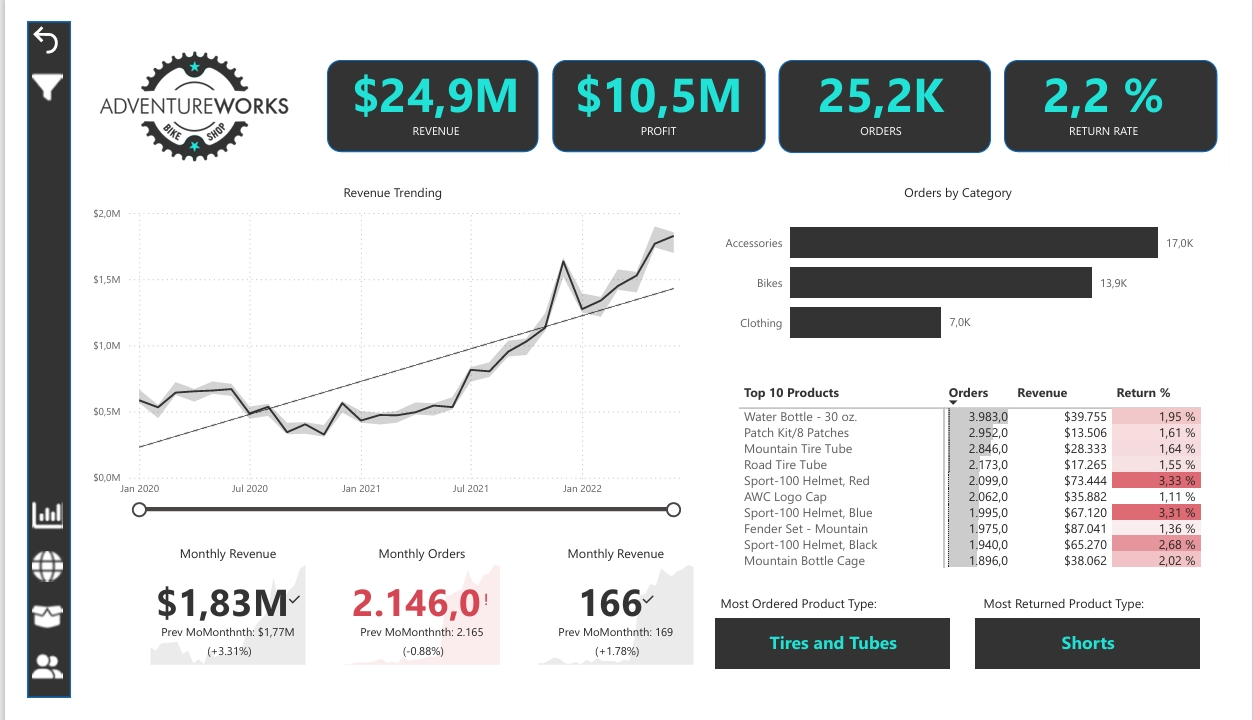

This screenshot's page, from the dashboard's own definition file:
{"tool":"powerbi","page":{"name":"Exec Dashboard","canvas":[1280,720],"ordinal":0},"visuals":[{"type":"card","fields":{"Values":["Measure Table.Total Profit"]},"box":[538.2,19,268,128],"z":0,"group":"g2"},{"type":"image","title":"AW Logo","box":[36.5,24.3,281.7,132.2],"z":0},{"type":"group","id":"g1","title":"KPI Backgrounds","box":[319.1,41,948.3,99.2],"z":0,"group":"g3"},{"type":"shape","title":"Shape","box":[319.1,41,225.4,98],"z":0,"group":"g1"},{"type":"actionButton","box":[1.4,505.7,44.3,40],"z":0,"group":"g4"},{"type":"shape","title":"Left Nav Background","box":[0,0,46.2,720],"z":1000},{"type":"group","id":"g2","title":"KPI Values","box":[301.3,19,978.7,128],"z":1000,"group":"g3"},{"type":"card","fields":{"Values":["Measure Table.Return Rate"]},"box":[1012,19,268,128],"z":1000,"group":"g2"},{"type":"shape","box":[800.1,41,226,99.2],"z":1000,"group":"g1"},{"type":"actionButton","box":[1.4,560,44.3,40],"z":1000,"group":"g4"},{"type":"group","id":"g3","title":"KPIs","box":[301.3,19,978.7,128],"z":2000},{"type":"card","fields":{"Values":["Measure Table.Total Orders"]},"box":[775.1,19,268,128],"z":2000,"group":"g2"},{"type":"shape","box":[1040.6,41,226.8,98],"z":2000,"group":"g1"},{"type":"actionButton","box":[1.4,613.3,44.3,40],"z":2000,"group":"g4"},{"type":"card","fields":{"Values":["Measure Table.Total Revenue"]},"box":[301.3,19,268,128],"z":3000,"group":"g2"},{"type":"shape","box":[558.9,41,226.8,98],"z":3000,"group":"g1"},{"type":"lineChart","title":"Revenue Trending","fields":{"Y":["Measure Table.Total Revenue"],"Category":["Calendar Lookup.Start of Month"]},"box":[64.3,172.9,650,358.6],"z":3000},{"type":"actionButton","box":[1.4,667.1,44.3,40],"z":3000,"group":"g4"},{"type":"kpi","title":"Monthly Revenue","fields":{"Indicator":["Measure Table.Total Revenue"],"TrendLine":["Calendar Lookup.Start of Month"],"Goal":["Measure Table.Previous Month Revenue"]},"box":[125.7,557.1,175.7,132.9],"z":4000},{"type":"kpi","title":"Monthly Orders","fields":{"TrendLine":["Calendar Lookup.Start of Month"],"Indicator":["Measure Table.Total Orders"],"Goal":["Measure Table.Previous Month Orders"]},"box":[332.1,557.1,175.7,132.9],"z":5000},{"type":"kpi","title":"Monthly Revenue","fields":{"TrendLine":["Calendar Lookup.Start of Month"],"Indicator":["Measure Table.Total Returns"],"Goal":["Measure Table.Previous Month Returns"]},"box":[538.6,557.1,175.7,132.9],"z":6000},{"type":"clusteredBarChart","title":"Orders by Category","fields":{"Category":["Product Category Lookup.CategoryName"],"Y":["Measure Table.Total Orders"]},"box":[732.9,172.9,515.7,187.1],"z":7000},{"type":"pivotTable","fields":{"Rows":["Product Lookup.ProductName"],"Values":["Measure Table.Total Orders","Measure Table.Total Revenue","Measure Table.Return Rate"]},"box":[752.5,381.2,513.8,215],"z":8000},{"type":"card","fields":{"Values":["Min(Product Subcategory Lookup.SubcategoryName)"]},"box":[732.5,636.2,250,53.8],"z":9000},{"type":"textbox","box":[732.9,606.5,180.6,40],"z":10000},{"type":"card","fields":{"Values":["Min(Product Subcategory Lookup.SubcategoryName)"]},"box":[1010,636.2,238.8,53.8],"z":11000},{"type":"textbox","box":[1012.9,606.5,183.2,50.3],"z":12000},{"type":"actionButton","box":[0,0,45.8,39.5],"z":13000},{"type":"group","id":"g4","title":"Navigation Buttons","box":[1.4,505.7,44.3,201.4],"z":14000},{"type":"actionButton","box":[1.4,50,62.9,40],"z":15000}]}

Visuals, with their boxes on the page's 1280x720 design canvas (x1, y1, x2, y2). These are canvas units, not pixel positions in the 1253x720 screenshot, which may show the page scaled, cropped or inside an application window:
card - Measure Table.Total Profit: {"left": 538, "top": 19, "right": 806, "bottom": 147}
"AW Logo" image: {"left": 36, "top": 24, "right": 318, "bottom": 156}
"KPI Backgrounds" group: {"left": 319, "top": 41, "right": 1267, "bottom": 140}
"Shape" shape: {"left": 319, "top": 41, "right": 544, "bottom": 139}
actionButton: {"left": 1, "top": 506, "right": 46, "bottom": 546}
"Left Nav Background" shape: {"left": 0, "top": 0, "right": 46, "bottom": 720}
"KPI Values" group: {"left": 301, "top": 19, "right": 1280, "bottom": 147}
card - Measure Table.Return Rate: {"left": 1012, "top": 19, "right": 1280, "bottom": 147}
shape: {"left": 800, "top": 41, "right": 1026, "bottom": 140}
actionButton: {"left": 1, "top": 560, "right": 46, "bottom": 600}
"KPIs" group: {"left": 301, "top": 19, "right": 1280, "bottom": 147}
card - Measure Table.Total Orders: {"left": 775, "top": 19, "right": 1043, "bottom": 147}
shape: {"left": 1041, "top": 41, "right": 1267, "bottom": 139}
actionButton: {"left": 1, "top": 613, "right": 46, "bottom": 653}
card - Measure Table.Total Revenue: {"left": 301, "top": 19, "right": 569, "bottom": 147}
shape: {"left": 559, "top": 41, "right": 786, "bottom": 139}
"Revenue Trending" lineChart: {"left": 64, "top": 173, "right": 714, "bottom": 532}
actionButton: {"left": 1, "top": 667, "right": 46, "bottom": 707}
"Monthly Revenue" kpi: {"left": 126, "top": 557, "right": 301, "bottom": 690}
"Monthly Orders" kpi: {"left": 332, "top": 557, "right": 508, "bottom": 690}
"Monthly Revenue" kpi: {"left": 539, "top": 557, "right": 714, "bottom": 690}
"Orders by Category" clusteredBarChart: {"left": 733, "top": 173, "right": 1249, "bottom": 360}
pivotTable - Product Lookup.ProductName x Measure Table.Total Orders: {"left": 752, "top": 381, "right": 1266, "bottom": 596}
card - Min(Product Subcategory Lookup.SubcategoryName): {"left": 732, "top": 636, "right": 982, "bottom": 690}
textbox: {"left": 733, "top": 606, "right": 914, "bottom": 646}
card - Min(Product Subcategory Lookup.SubcategoryName): {"left": 1010, "top": 636, "right": 1249, "bottom": 690}
textbox: {"left": 1013, "top": 606, "right": 1196, "bottom": 657}
actionButton: {"left": 0, "top": 0, "right": 46, "bottom": 40}
"Navigation Buttons" group: {"left": 1, "top": 506, "right": 46, "bottom": 707}
actionButton: {"left": 1, "top": 50, "right": 64, "bottom": 90}
